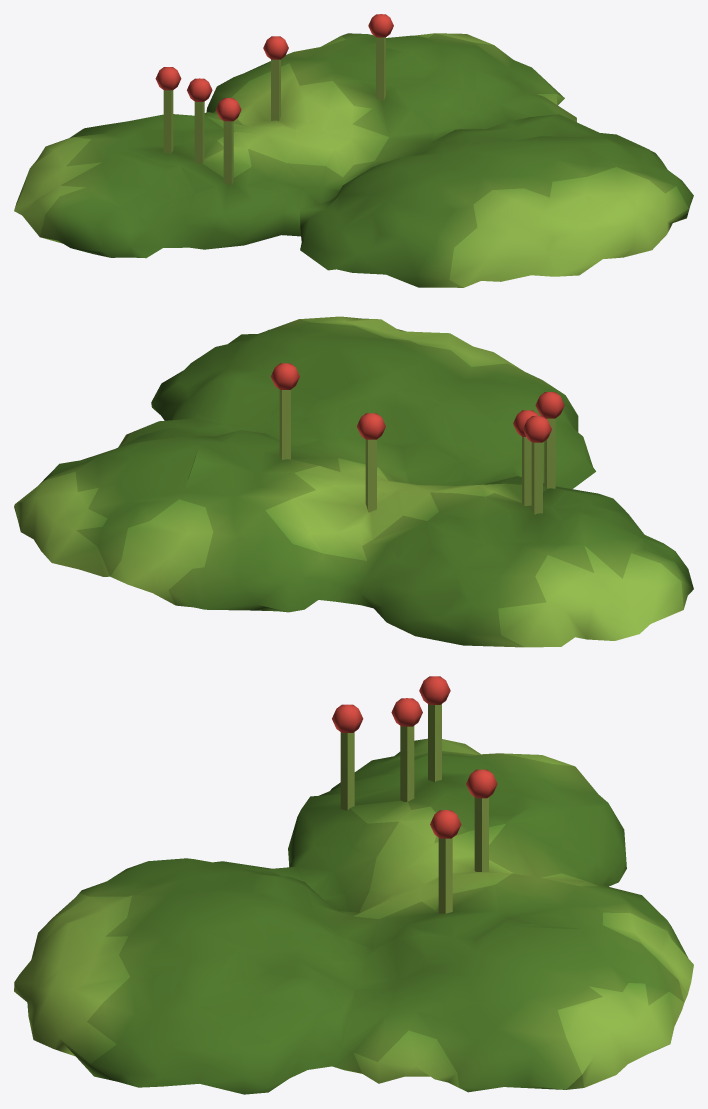
File: glade_gc_moss_patch_a.glb
3 views of the same model, one above another, from view 1: azimuth 30°, elevation 25°; view 2: azimuth 150°, elevation 25°; view 3: azimuth 270°, elevation 25° (orthographic). The views are drawn at different scales.
Parts seen in each view (by area): view 1: glade_gc_moss_patch_a; view 2: glade_gc_moss_patch_a; view 3: glade_gc_moss_patch_a.
Part boxes in pixels (box(x1,y1,x2,y2)): glade_gc_moss_patch_a: box(14, 14, 693, 287); glade_gc_moss_patch_a: box(14, 316, 693, 647); glade_gc_moss_patch_a: box(14, 676, 693, 1094).
Size of the model in its own units: 4.32 by 1.14 by 3.87.
